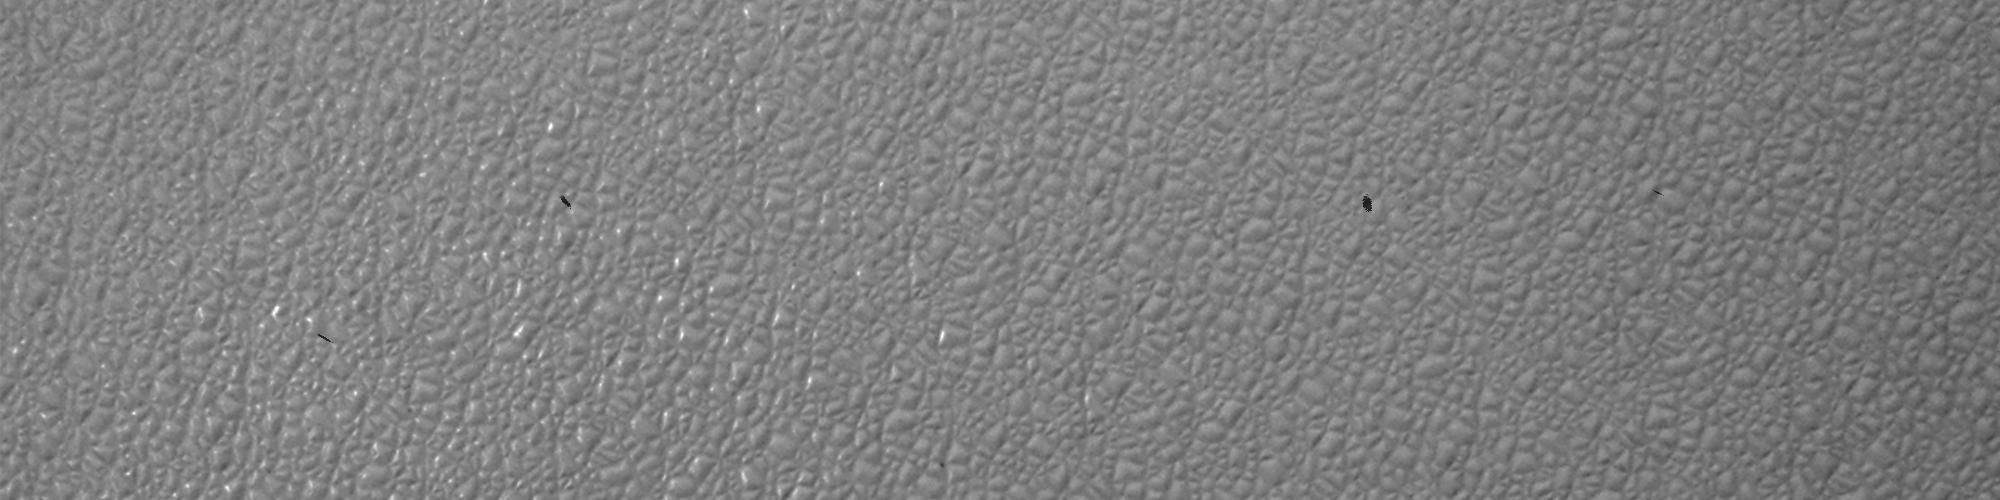Decomposed: (552, 187, 577, 217), (316, 321, 341, 349), (1645, 185, 1668, 203), (1358, 193, 1372, 216)
